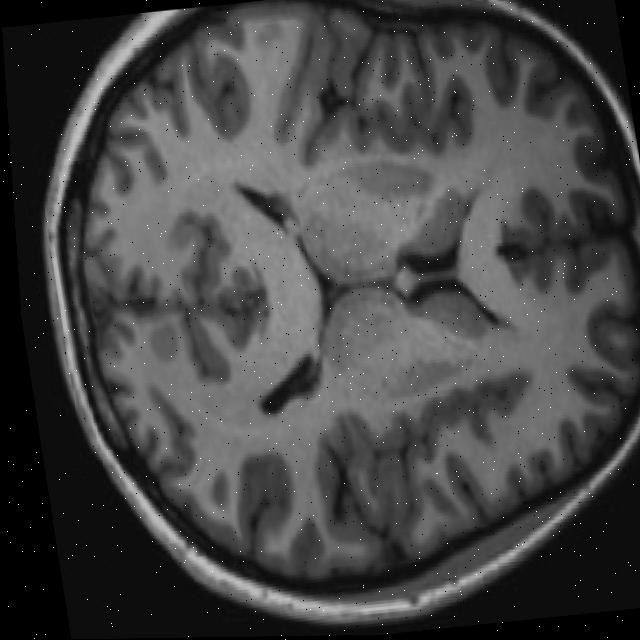NoTumor: (6, 0, 640, 640)
